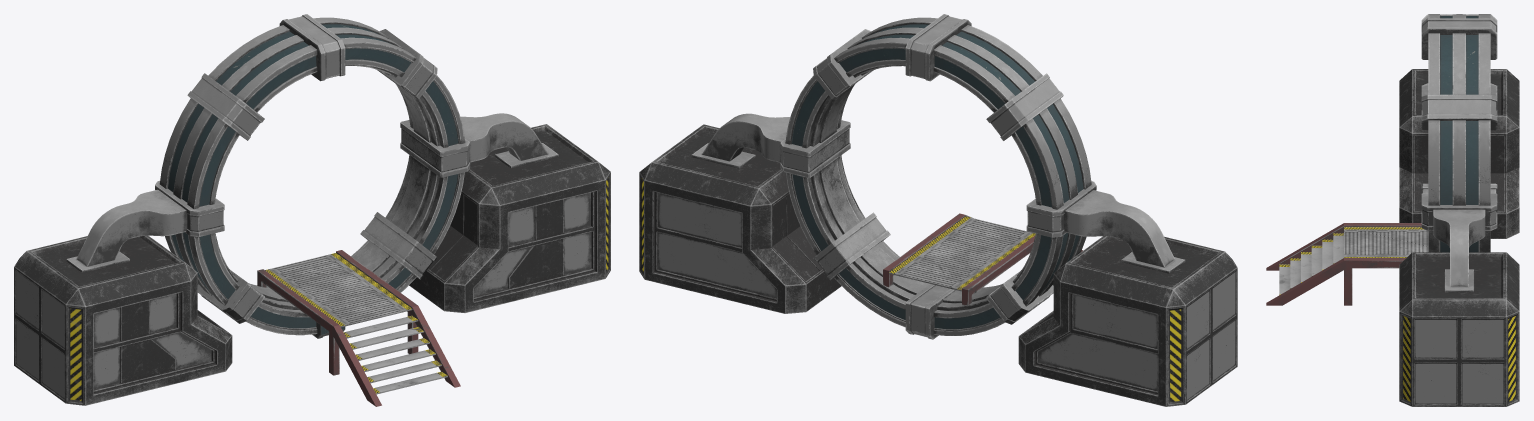
The model's file is portal_gateway_1k.glb.
The picture shows the model from 3 angles, left to right: view 1: azimuth 30°, elevation 25°; view 2: azimuth 150°, elevation 25°; view 3: azimuth 270°, elevation 25°; orthographic projection. The views are drawn at different scales.
Parts seen in each view (by area): view 1: side_housing_0, portal_main_3, walkway_1, clamps_2; view 2: side_housing_0, portal_main_3, clamps_2, walkway_1; view 3: side_housing_0, portal_main_3, walkway_1, clamps_2.
Part boxes in pixels (bbox=[...]): side_housing_0: bbox=[14, 113, 610, 405]; portal_main_3: bbox=[159, 17, 465, 335]; walkway_1: bbox=[257, 250, 460, 406]; clamps_2: bbox=[155, 14, 470, 338]; side_housing_0: bbox=[639, 113, 1237, 406]; portal_main_3: bbox=[785, 17, 1091, 335]; clamps_2: bbox=[780, 14, 1096, 339]; walkway_1: bbox=[883, 213, 1082, 305]; side_housing_0: bbox=[1399, 69, 1519, 406]; portal_main_3: bbox=[1428, 14, 1490, 252]; walkway_1: bbox=[1266, 223, 1428, 305]; clamps_2: bbox=[1421, 14, 1497, 230].
Bounding box in the file's own units: 10.01 × 5.15 × 4.42.
Materials: 3 (3 with a texture image).
